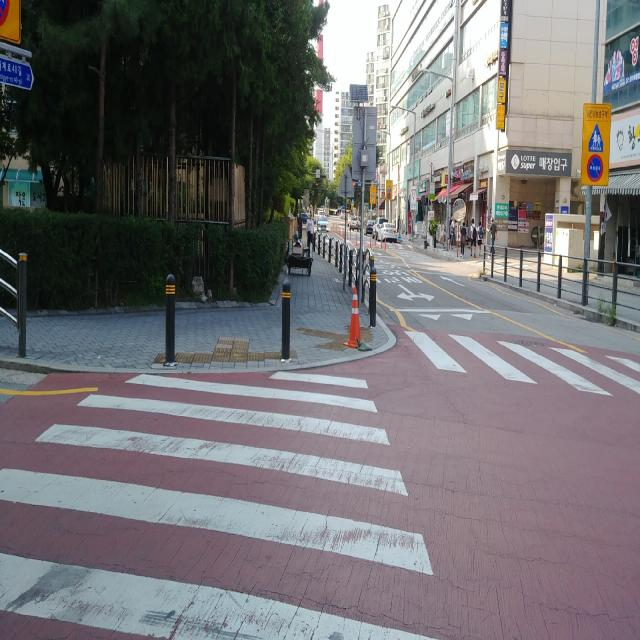횡단보도: (0, 368, 437, 640), (400, 326, 640, 393)
